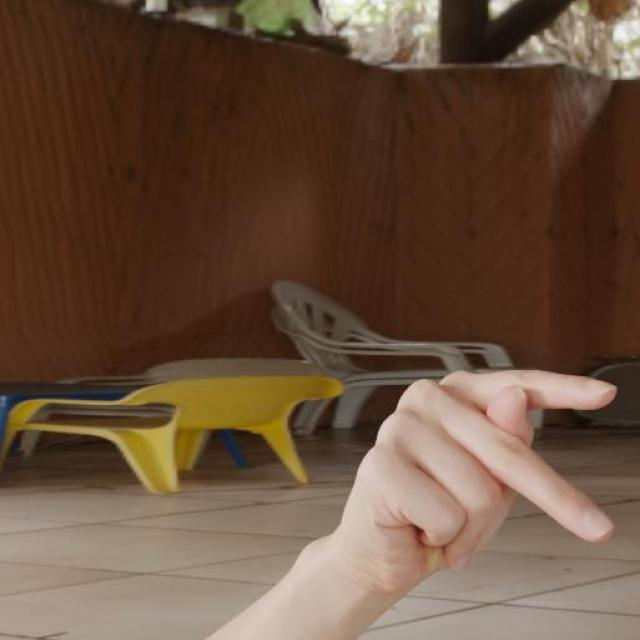P: (348, 368, 621, 588)
